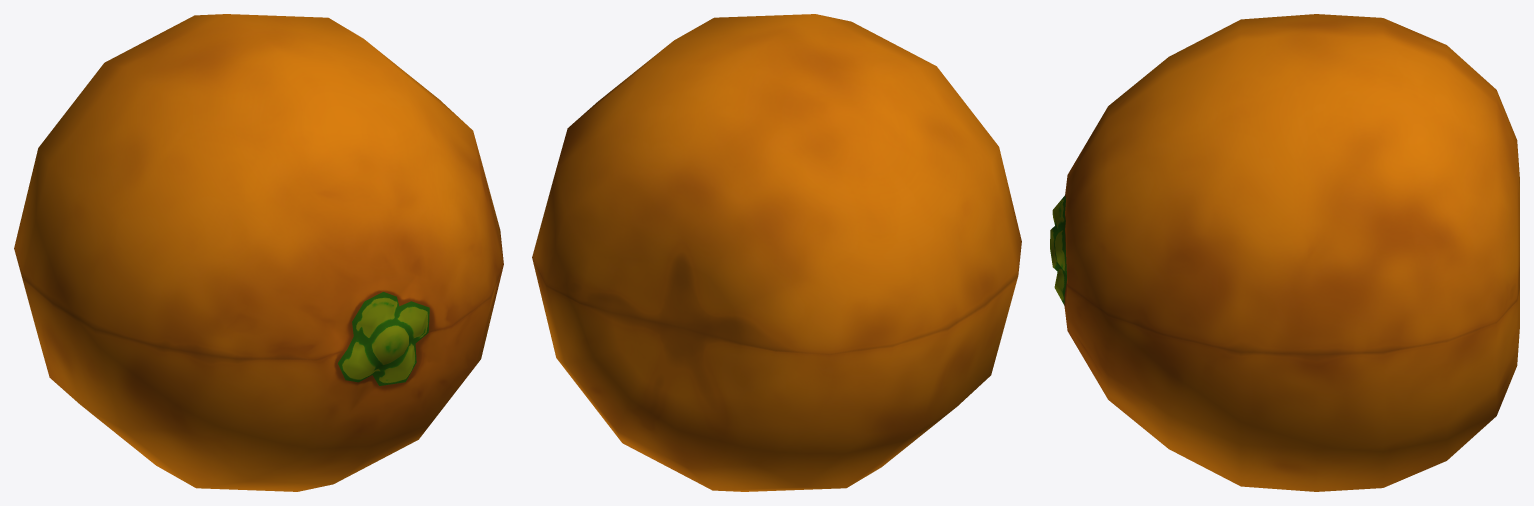
Rendered from SunkistA.glb.
3 renders of one model, left to right at view 1: azimuth 30°, elevation 25°; view 2: azimuth 150°, elevation 25°; view 3: azimuth 270°, elevation 25°, orthographic.
Parts seen in each view (by area): view 1: SunkistA_Sunkist_0; view 2: SunkistA_Sunkist_0; view 3: SunkistA_Sunkist_0.
Boxes of the visible parts, <box> form: SunkistA_Sunkist_0: <box>14,14,503,491</box>; SunkistA_Sunkist_0: <box>532,14,1021,491</box>; SunkistA_Sunkist_0: <box>1050,14,1519,491</box>.
Size of the model in its own units: 1.01 by 1.01 by 0.9853.
Materials: 1 (1 with a texture image).
